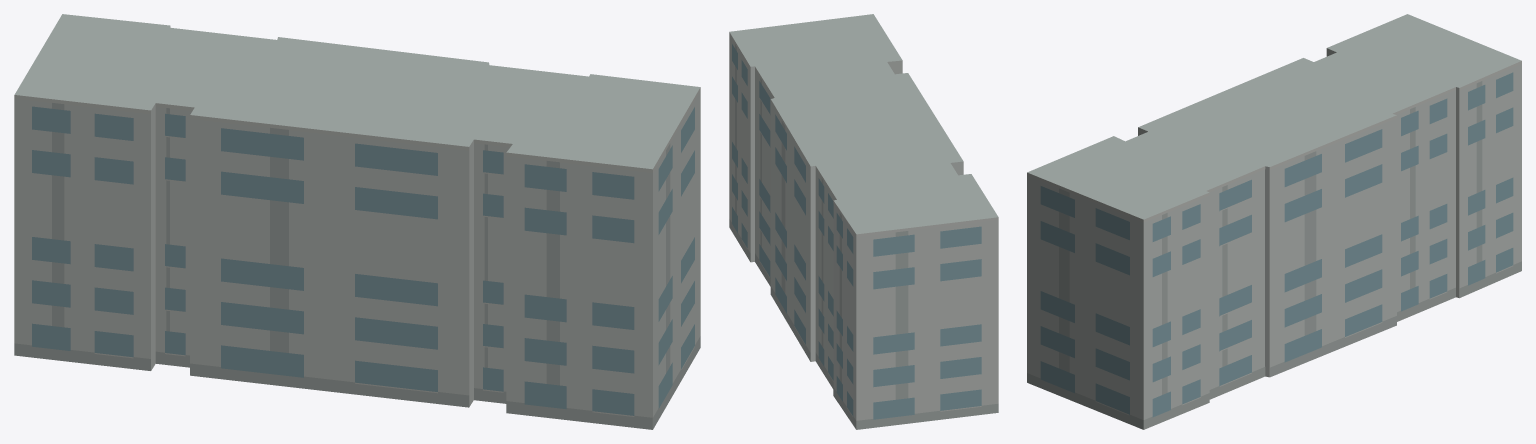
Rendered from survey-upis-33020097.glb.
3 views of the same model, side by side, from view 1: azimuth 30°, elevation 25°; view 2: azimuth 150°, elevation 25°; view 3: azimuth 270°, elevation 25° (orthographic). The views are drawn at different scales.
Visible parts, largest first — view 1: survey-upis-33020097.tmp; view 2: survey-upis-33020097.tmp; view 3: survey-upis-33020097.tmp.
Part boxes in pixels (x1=…): survey-upis-33020097.tmp: x1=14, y1=14, x2=700, y2=429; survey-upis-33020097.tmp: x1=729, y1=14, x2=998, y2=429; survey-upis-33020097.tmp: x1=1027, y1=14, x2=1521, y2=429.
Size of the model in its own units: 36.72 by 17.5 by 37.33.
